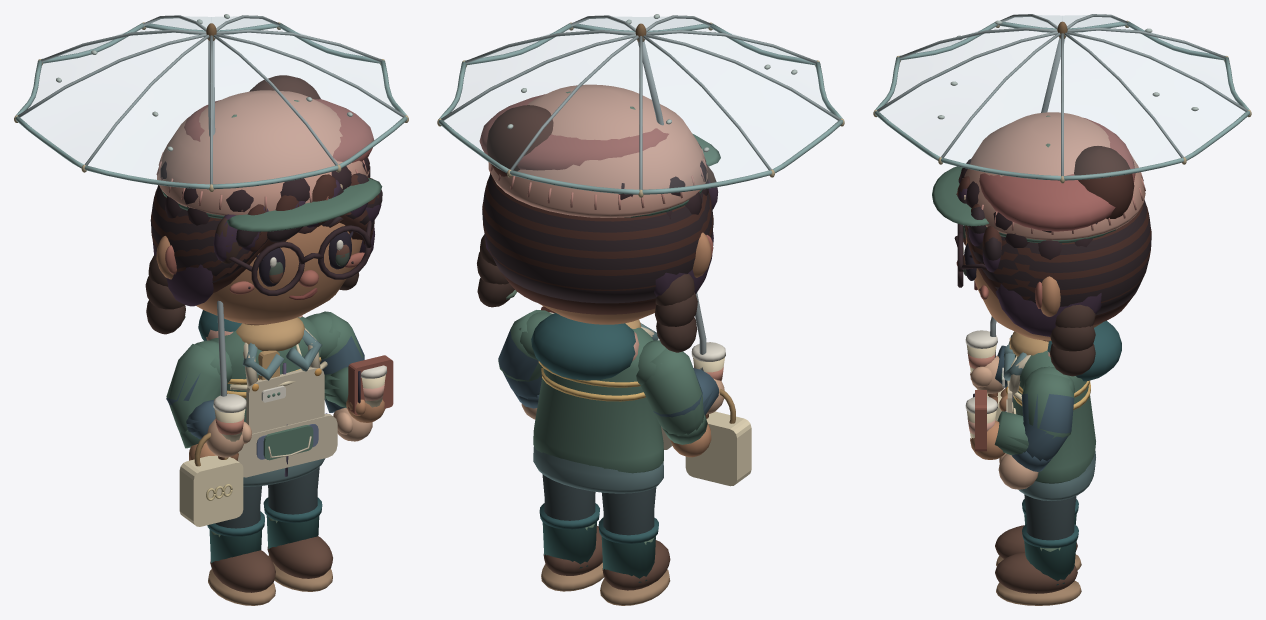
The model's file is cast.glb.
3 renders of one model, left to right at view 1: azimuth 30°, elevation 25°; view 2: azimuth 150°, elevation 25°; view 3: azimuth 270°, elevation 25°, orthographic. The views are drawn at different scales.
Parts seen in each view (by area): view 1: Member05_HeadSurface, Member01_HeadSurface, Player_UmbrellaSurface, Member01_BodySurface, Member02_HeadSurface, Member04_HeadSurface, Member03_HeadSurface, Member01_LegLSurface, Member04_ArmRSurface, Member01_ArmLSurface, Member01_LegRSurface, Member01_ArmRSurface (+10 smaller); view 2: Member05_HeadSurface, Member01_HeadSurface, Player_UmbrellaSurface, Member02_HeadSurface, Member01_BodySurface, Player_BodySurface, Member01_ArmRSurface, Member01_LegRSurface, Member04_HeadSurface, Member06_HeadSurface, Member01_LegLSurface, Member04_ArmRSurface (+9 smaller); view 3: Member01_HeadSurface, Player_UmbrellaSurface, Member05_HeadSurface, Member04_HeadSurface, Member02_HeadSurface, Member01_LegLSurface, Member01_ArmLSurface, Member01_BodySurface, Member02_ArmLSurface, Member06_HeadSurface, Member02_ArmRSurface, Member03_HeadSurface (+7 smaller).
Part boxes in pixels (x1=…): Member05_HeadSurface: x1=156, y1=90, x2=369, y2=296; Member01_HeadSurface: x1=150, y1=173, x2=382, y2=324; Player_UmbrellaSurface: x1=14, y1=14, x2=408, y2=460; Member01_BodySurface: x1=210, y1=317, x2=337, y2=477; Member02_HeadSurface: x1=151, y1=75, x2=379, y2=299; Member04_HeadSurface: x1=152, y1=99, x2=381, y2=306; Member03_HeadSurface: x1=158, y1=158, x2=371, y2=296; Member01_LegLSurface: x1=267, y1=467, x2=332, y2=591; Member04_ArmRSurface: x1=179, y1=432, x2=243, y2=526; Member01_ArmLSurface: x1=306, y1=311, x2=393, y2=422; Member01_LegRSurface: x1=208, y1=486, x2=275, y2=605; Member01_ArmRSurface: x1=166, y1=340, x2=232, y2=460; Member05_HeadSurface: x1=488, y1=84, x2=708, y2=217; Member01_HeadSurface: x1=482, y1=133, x2=720, y2=324; Player_UmbrellaSurface: x1=437, y1=14, x2=844, y2=418; Member02_HeadSurface: x1=482, y1=105, x2=713, y2=314; Member01_BodySurface: x1=533, y1=326, x2=672, y2=473; Player_BodySurface: x1=531, y1=313, x2=635, y2=380; Member01_ArmRSurface: x1=636, y1=340, x2=711, y2=457; Member01_LegRSurface: x1=600, y1=487, x2=670, y2=605; Member04_HeadSurface: x1=479, y1=94, x2=718, y2=296; Member06_HeadSurface: x1=477, y1=91, x2=716, y2=352; Member01_LegLSurface: x1=541, y1=474, x2=603, y2=591; Member04_ArmRSurface: x1=685, y1=389, x2=751, y2=486; Member01_HeadSurface: x1=932, y1=166, x2=1151, y2=340; Player_UmbrellaSurface: x1=873, y1=14, x2=1251, y2=403; Member05_HeadSurface: x1=962, y1=112, x2=1145, y2=288; Member04_HeadSurface: x1=957, y1=117, x2=1135, y2=336; Member02_HeadSurface: x1=956, y1=146, x2=1151, y2=325; Member01_LegLSurface: x1=995, y1=494, x2=1081, y2=605; Member01_ArmLSurface: x1=970, y1=366, x2=1074, y2=459; Member01_BodySurface: x1=1001, y1=340, x2=1095, y2=483; Member02_ArmLSurface: x1=998, y1=393, x2=1074, y2=489; Member06_HeadSurface: x1=1046, y1=115, x2=1095, y2=376; Member02_ArmRSurface: x1=965, y1=330, x2=1007, y2=393; Member03_HeadSurface: x1=954, y1=159, x2=1097, y2=288.
Bounding box in the file's own units: 1.08 × 1.73 × 1.1.
